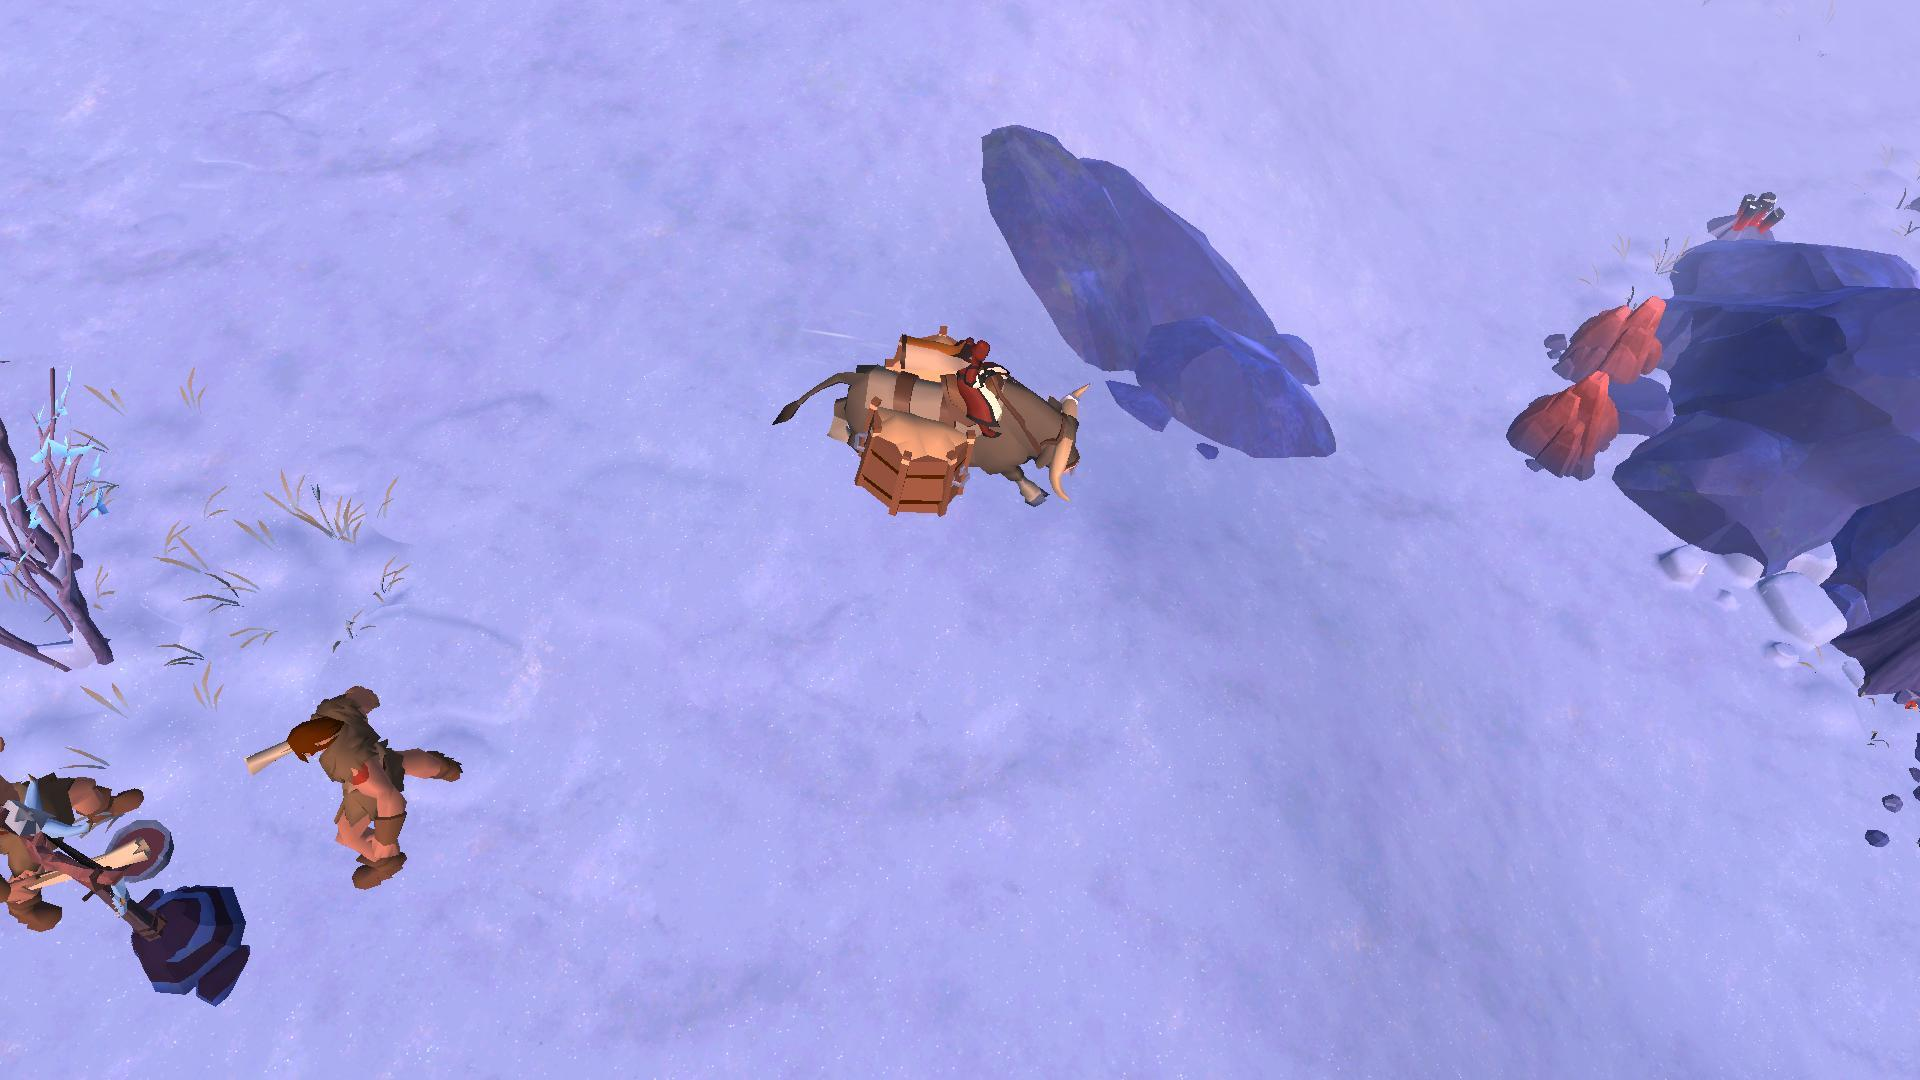enemy_factionKeeper: (262, 675, 473, 903)
ore_t5: (1727, 183, 1787, 235)
rock_t5: (1487, 365, 1627, 491), (1545, 299, 1672, 390)
